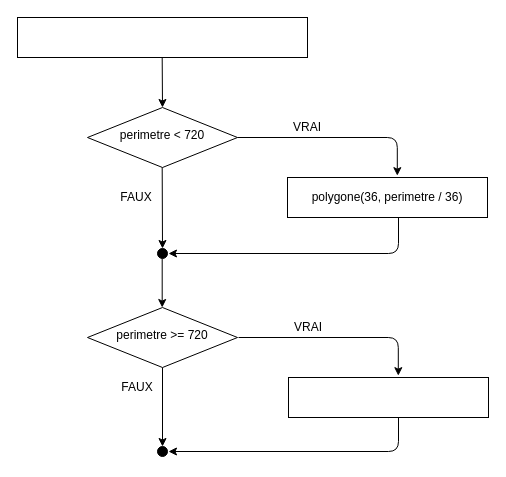
Some shapes in this 506 by 477 pixel diagram are drawn without their labels. The centre of each missing label's shape, as x and y in pixels:
perimetre = input("Que vaut le périmètre ?"): pixel 162 37
polygone(360, perimetre / 360): pixel 388 397
